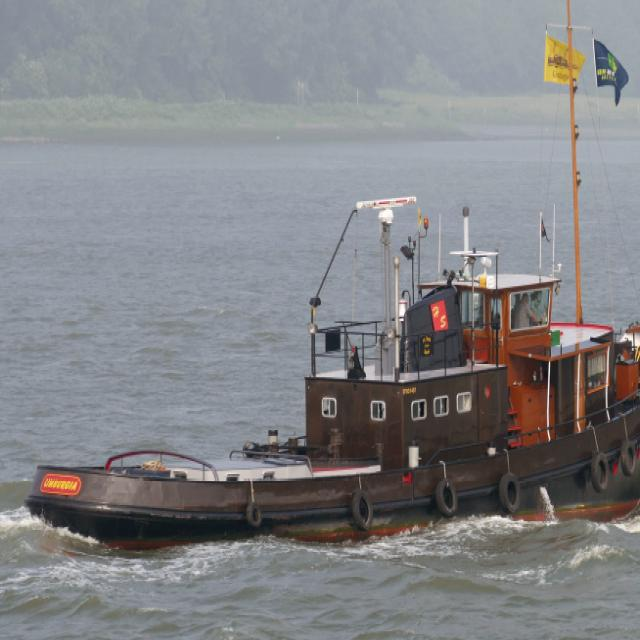tugboat: (22, 1, 640, 570)
